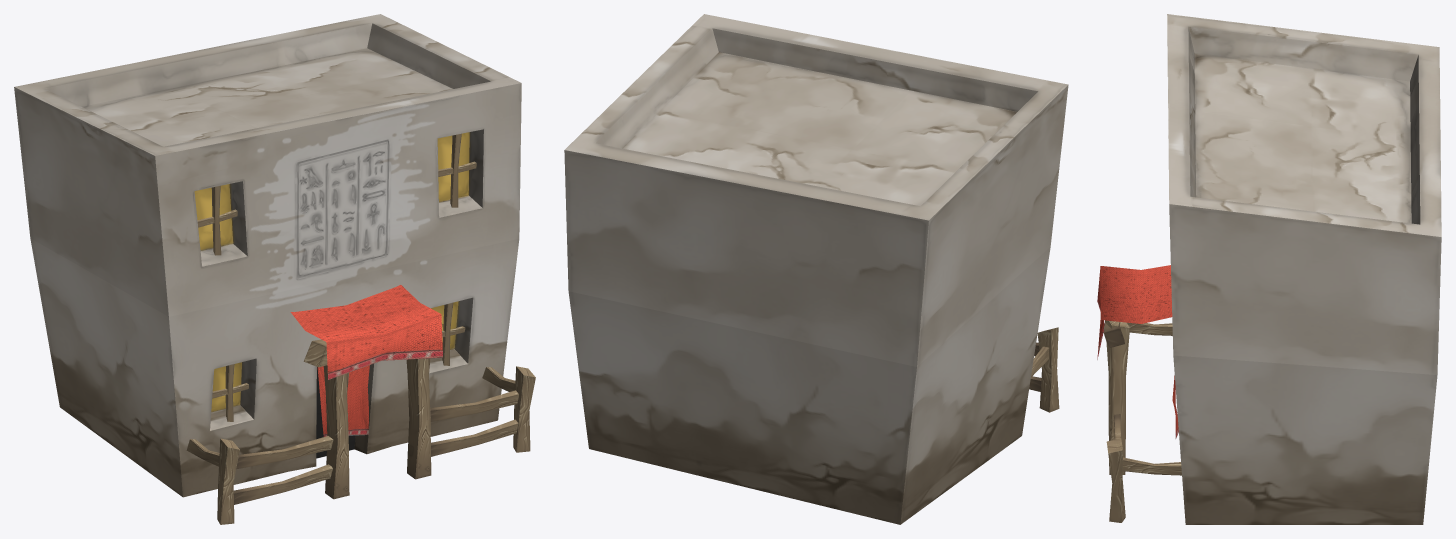
Rendered from Egypt_Village_Buildings_04.FBX.
3 views of the same model, side by side, from view 1: azimuth 30°, elevation 25°; view 2: azimuth 150°, elevation 25°; view 3: azimuth 270°, elevation 25° (orthographic). The views are drawn at different scales.
Visible parts, largest first — view 1: Egypt_Village_Buildings_04; view 2: Egypt_Village_Buildings_04; view 3: Egypt_Village_Buildings_04.
Part boxes in pixels (box(x1,y1,x2,y2)): Egypt_Village_Buildings_04: box(14, 14, 535, 524); Egypt_Village_Buildings_04: box(564, 14, 1068, 524); Egypt_Village_Buildings_04: box(1097, 14, 1441, 524).
Bounding box in the file's own units: 695 × 650 × 584.
